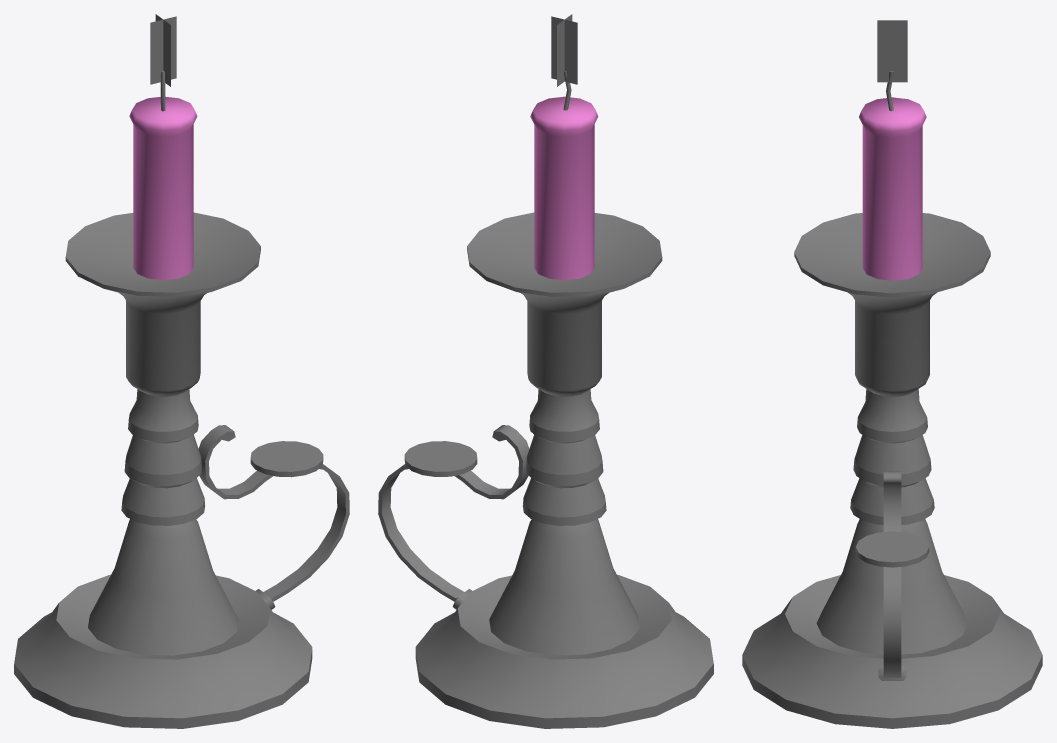
3 renders of one model, left to right at view 1: azimuth 30°, elevation 25°; view 2: azimuth 150°, elevation 25°; view 3: azimuth 270°, elevation 25°, orthographic.
Visible parts, largest first — view 1: Cylinder001, Cylinder003, Cylinder002, Plane001; view 2: Cylinder001, Cylinder003, Cylinder002, Plane001; view 3: Cylinder001, Cylinder003, Cylinder002, Plane002.
Boxes of the visible parts, x1,y1,x2,y2 form: Cylinder001: (14, 212, 312, 728); Cylinder003: (129, 96, 197, 280); Cylinder002: (198, 425, 349, 609); Plane001: (150, 16, 176, 84); Cylinder001: (415, 212, 713, 728); Cylinder003: (530, 96, 598, 280); Cylinder002: (378, 425, 529, 609); Plane001: (551, 16, 577, 84); Cylinder001: (742, 213, 1042, 728); Cylinder003: (859, 97, 926, 280); Cylinder002: (855, 471, 929, 680); Plane002: (877, 20, 907, 82).
Size of the model in its own units: 94.85 by 187 by 79.11.
